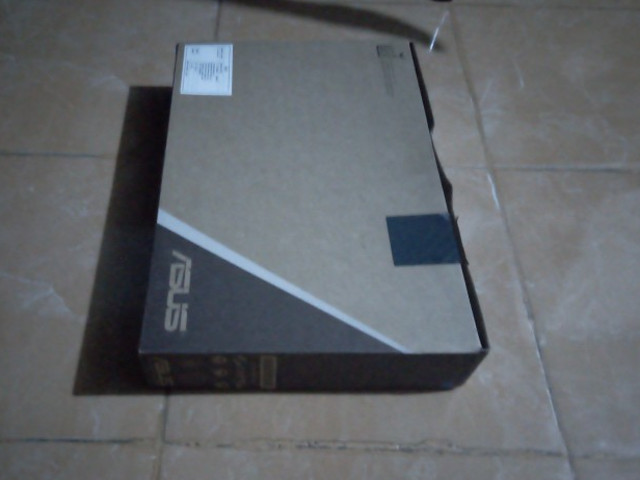cardboard: (143, 48, 484, 387)
